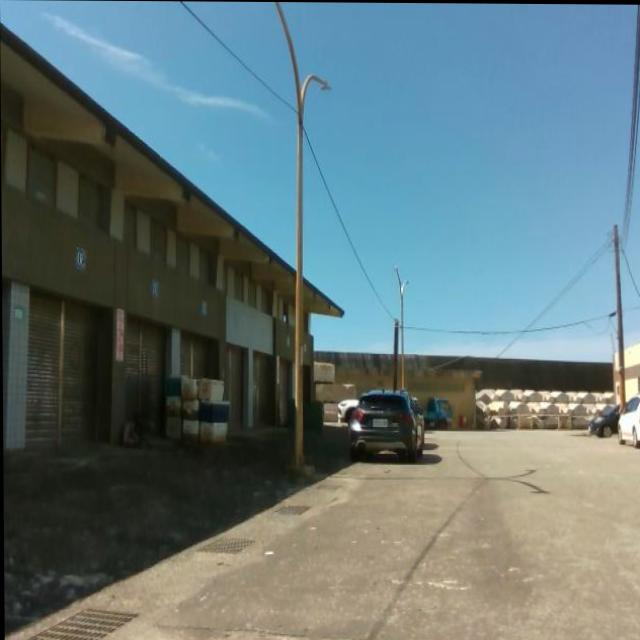pollute: (162, 375, 233, 443)
